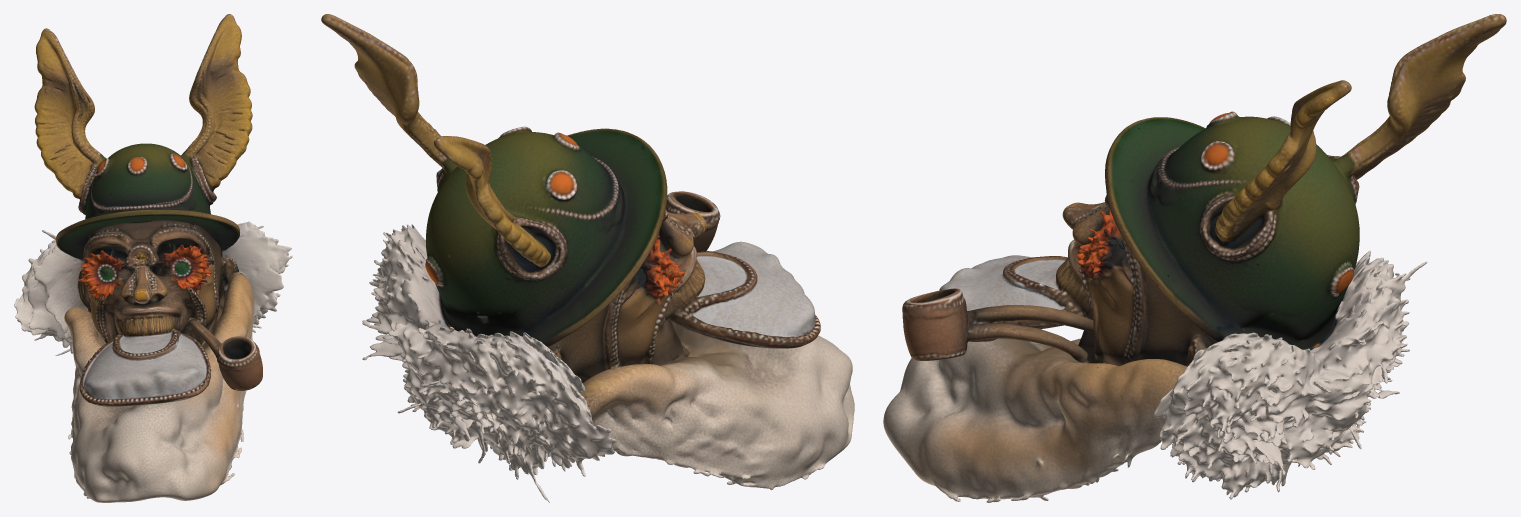
Rendered from morenadamasc.glb.
The picture shows the model from 3 angles, left to right: view 1: azimuth 30°, elevation 25°; view 2: azimuth 150°, elevation 25°; view 3: azimuth 270°, elevation 25°; orthographic projection. The views are drawn at different scales.
Visible parts, largest first — view 1: tripo_node_689fb585-251f-4518-85fb-7d4430438078; view 2: tripo_node_689fb585-251f-4518-85fb-7d4430438078; view 3: tripo_node_689fb585-251f-4518-85fb-7d4430438078.
Boxes of the visible parts, x1=… form: tripo_node_689fb585-251f-4518-85fb-7d4430438078: x1=14, y1=14, x2=292, y2=502; tripo_node_689fb585-251f-4518-85fb-7d4430438078: x1=321, y1=14, x2=854, y2=502; tripo_node_689fb585-251f-4518-85fb-7d4430438078: x1=883, y1=14, x2=1506, y2=502.
Bounding box in the file's own units: 0.6447 × 0.8005 × 0.857.
1 material, 1 textured.
